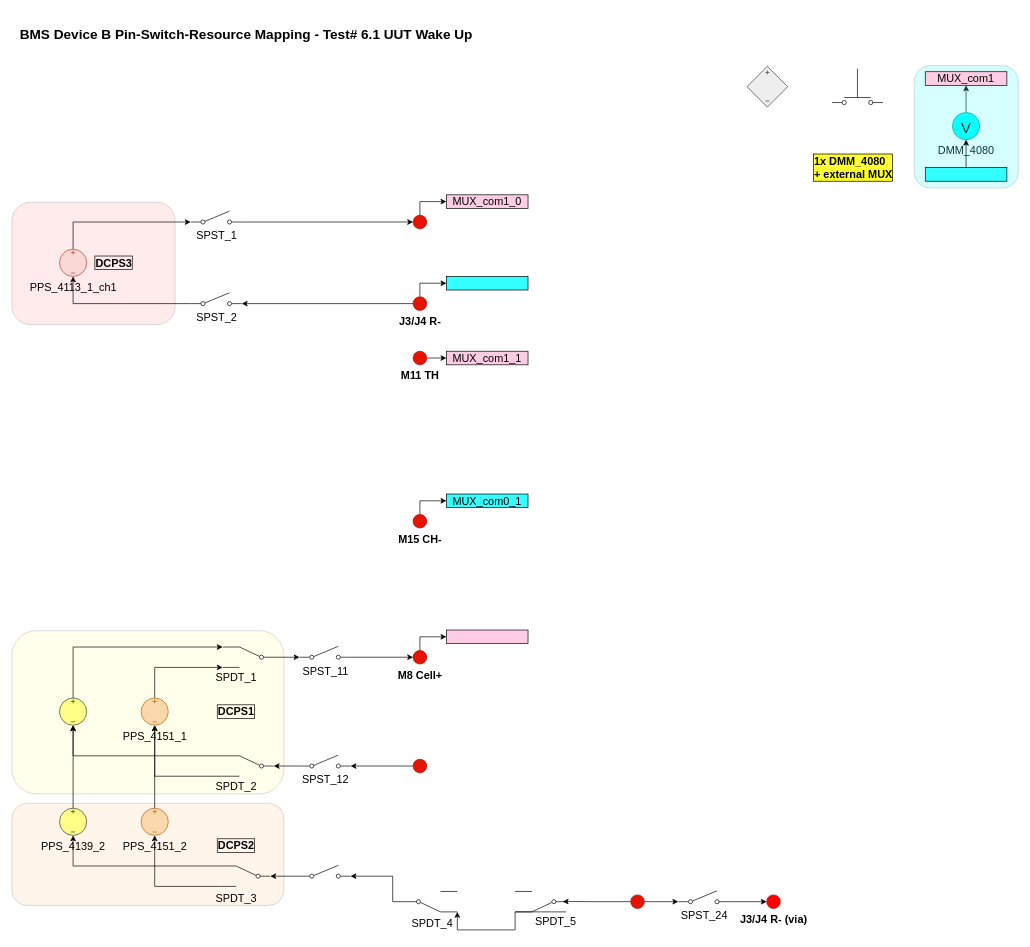
The diagram is 1030 pixels wide and 947 high, and some of its shapes have lost their labels. Each missing label, with the centre of its shape:
J5/J6 R+: the point at 419,222
M12 MID: the point at 419,766
M9 Cell-: the point at 637,901
MUX_com0: the point at 966,174
MUX_com0_0: the point at 487,283
MUX_com1_6: the point at 487,636
PPS_4139_1: the point at 73,711
RELAY PS: the point at 767,86
RELAY_2567: the point at 857,86
SPST_13: the point at 325,872
